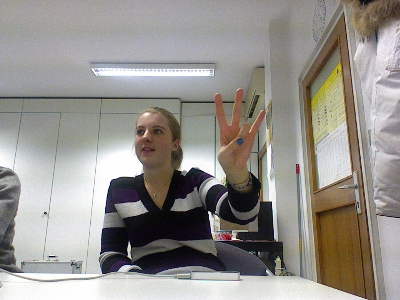观音: (212, 87, 266, 174)
